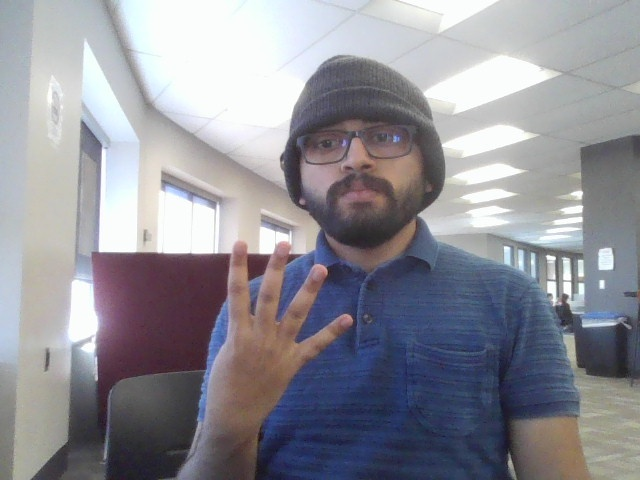start: (206, 233, 352, 431)
